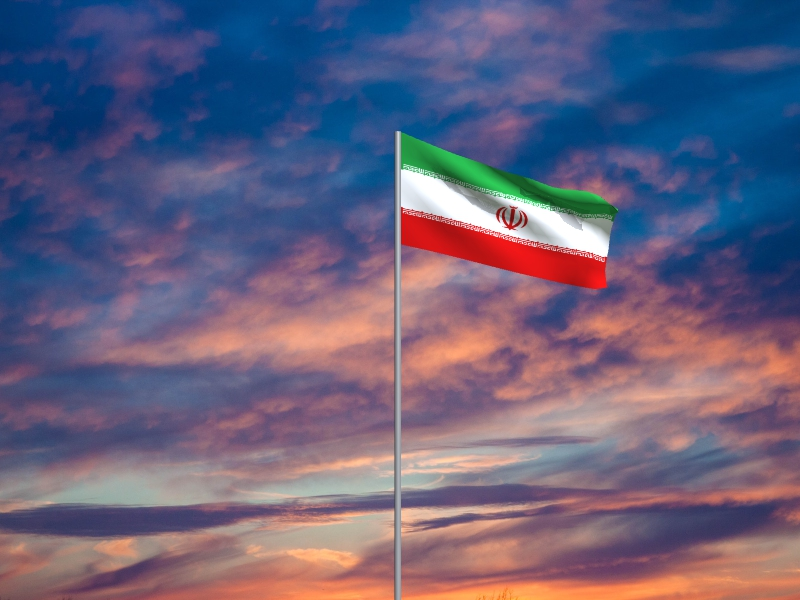ir: (402, 133, 620, 291)
